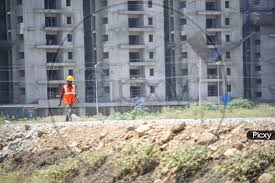helmet: (66, 76, 73, 81)
vest: (63, 86, 77, 105)
